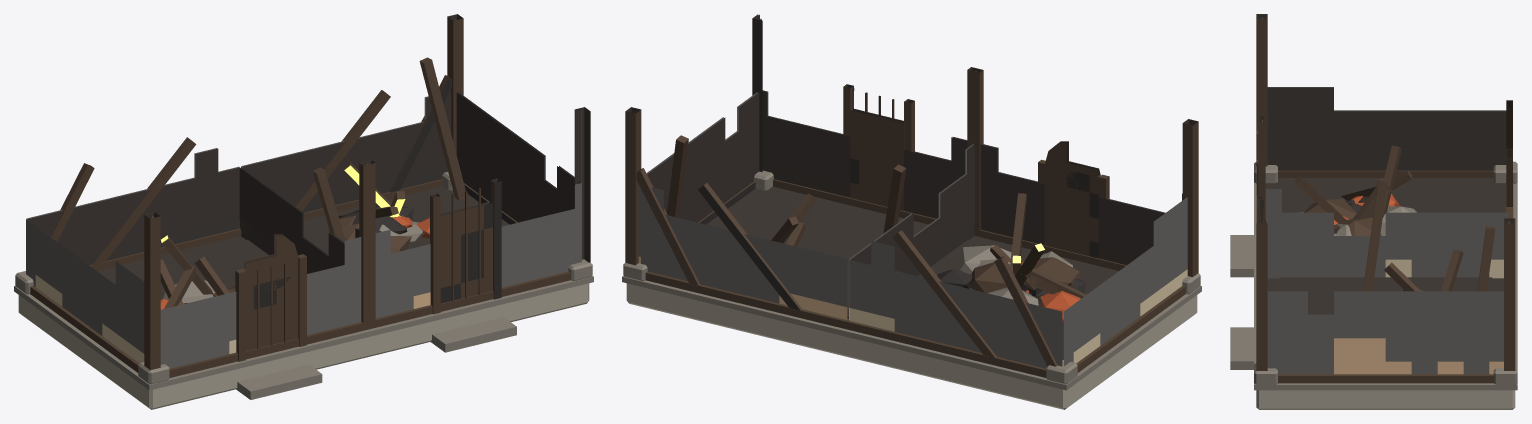
File: Haus_Lang_Ruine.fbx
The picture shows the model from 3 angles, left to right: view 1: azimuth 30°, elevation 25°; view 2: azimuth 150°, elevation 25°; view 3: azimuth 270°, elevation 25°; orthographic projection. The views are drawn at different scales.
Parts seen in each view (by area): view 1: Haus_Lang_Ruine; view 2: Haus_Lang_Ruine; view 3: Haus_Lang_Ruine.
Part boxes in pixels (x1,y1,x2,y2): Haus_Lang_Ruine: (14, 14, 593, 409); Haus_Lang_Ruine: (622, 14, 1201, 409); Haus_Lang_Ruine: (1230, 14, 1517, 409).
Size of the model in its own units: 8.68 by 3.6 by 4.99.
